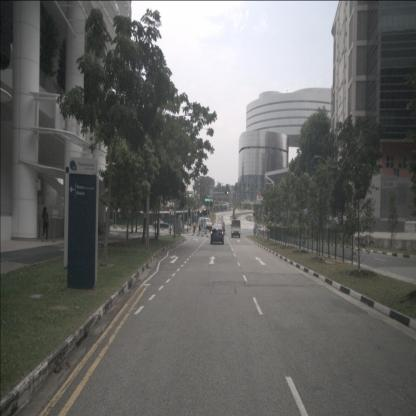human-pedestrian-adult: (42, 206, 49, 242), (222, 222, 226, 236), (193, 220, 196, 235)
vehicle-bicycle: (89, 221, 103, 236)
vehicle-car: (210, 224, 224, 245), (198, 216, 212, 232), (153, 219, 169, 228)
vehicle-truck: (231, 220, 241, 238)
